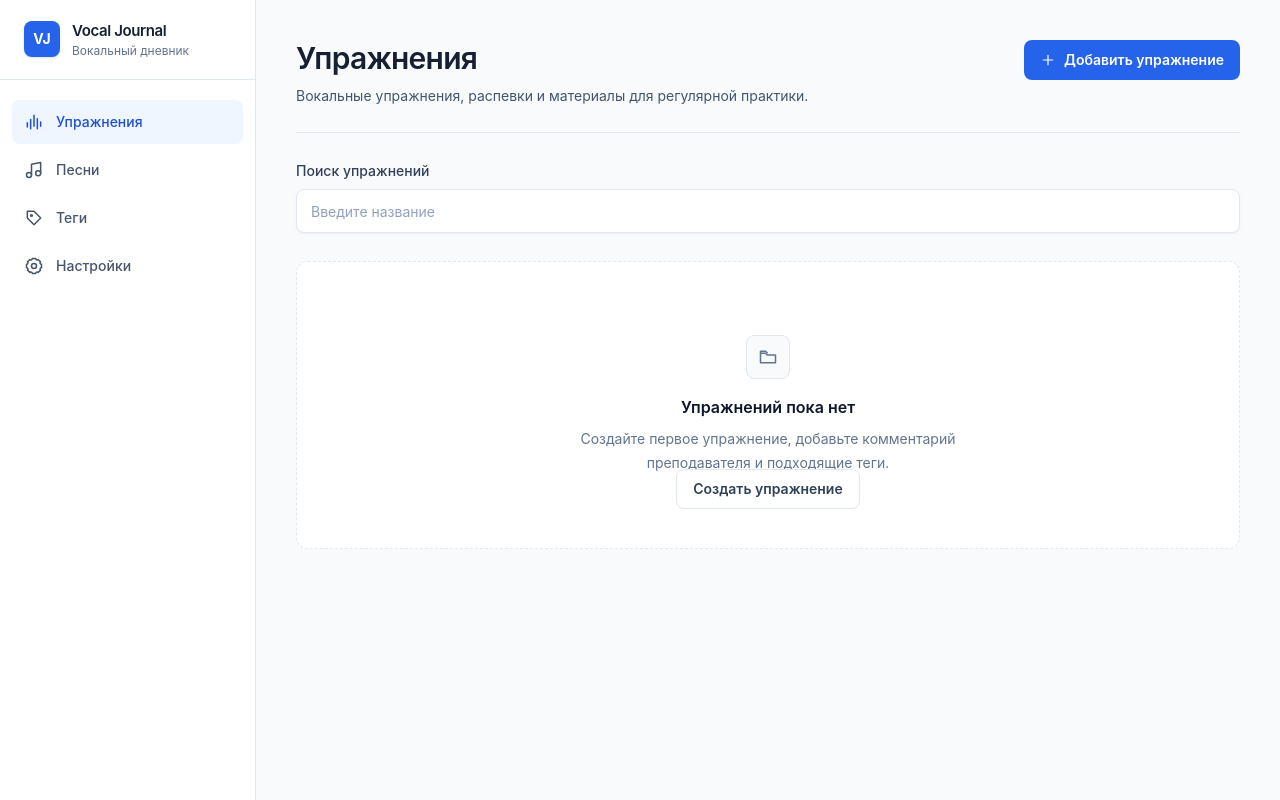
Test: оболочка приложения › переходит между разделами через навигацию
Click the link "Песни" at (62,170), box [24,160,100,180]
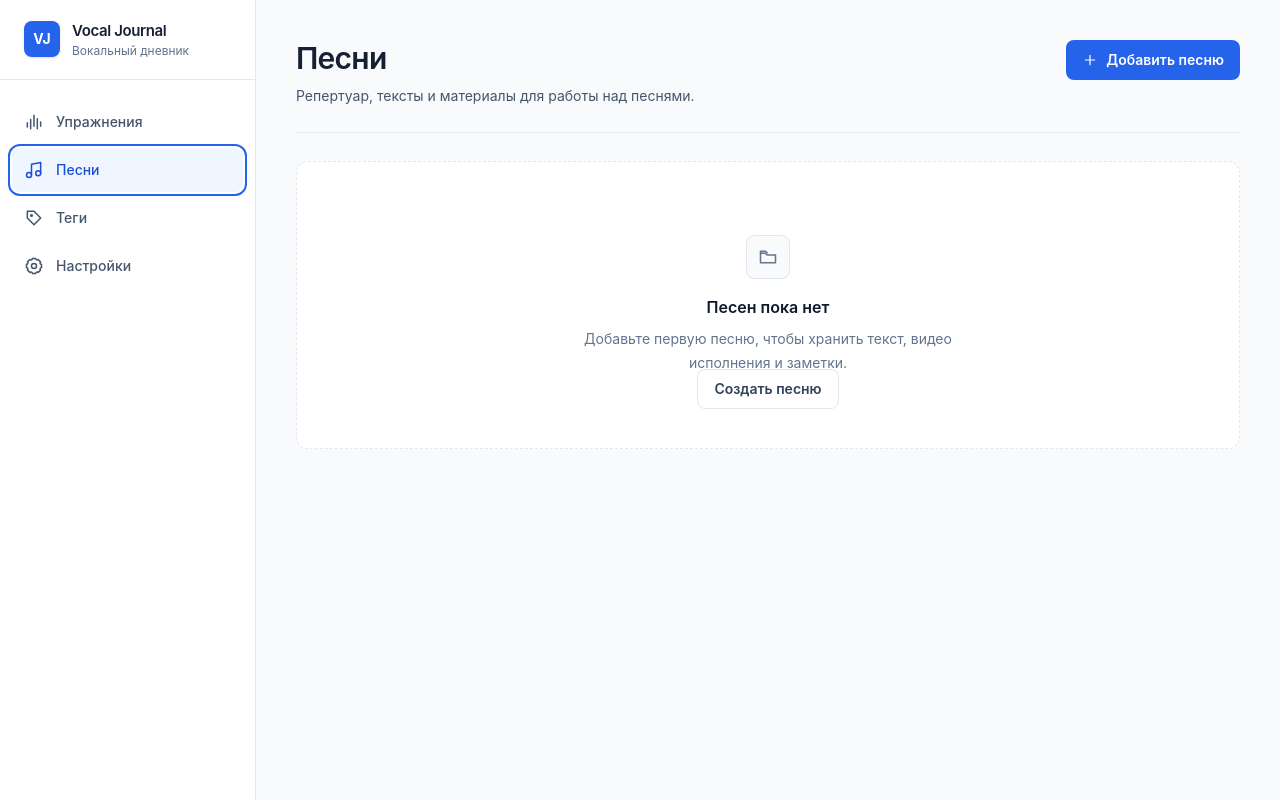
Result: the heading "Песни" is shown at [296,40,386,76]
